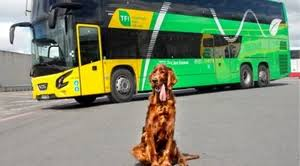bus: (8, 1, 291, 105)
